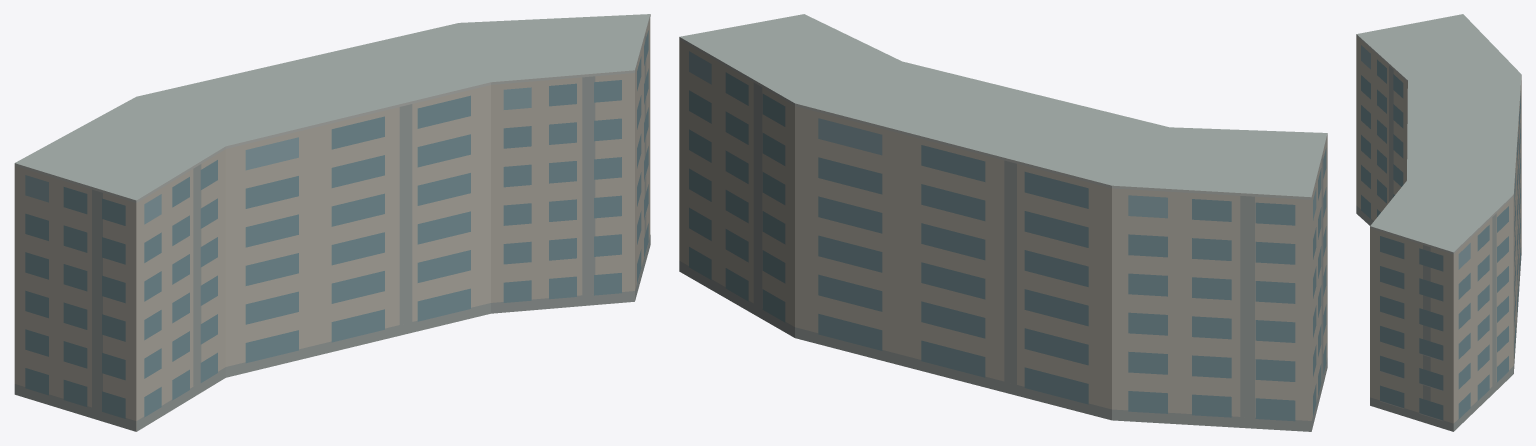
The model's file is residential-d580fb60-8ebc-445a-9fd5-57ea025ecc82.glb.
The picture shows the model from 3 angles, left to right: view 1: azimuth 30°, elevation 25°; view 2: azimuth 150°, elevation 25°; view 3: azimuth 270°, elevation 25°; orthographic projection. The views are drawn at different scales.
Visible parts, largest first — view 1: residential-d580fb60-8ebc-445a-9fd5-57ea025ecc82.tmp; view 2: residential-d580fb60-8ebc-445a-9fd5-57ea025ecc82.tmp; view 3: residential-d580fb60-8ebc-445a-9fd5-57ea025ecc82.tmp.
Boxes of the visible parts, x1,y1,x2,y2 form: residential-d580fb60-8ebc-445a-9fd5-57ea025ecc82.tmp: (14,14,650,431); residential-d580fb60-8ebc-445a-9fd5-57ea025ecc82.tmp: (679,14,1327,431); residential-d580fb60-8ebc-445a-9fd5-57ea025ecc82.tmp: (1356,14,1521,431).
Size of the model in its own units: 59.8 by 21 by 17.51.
